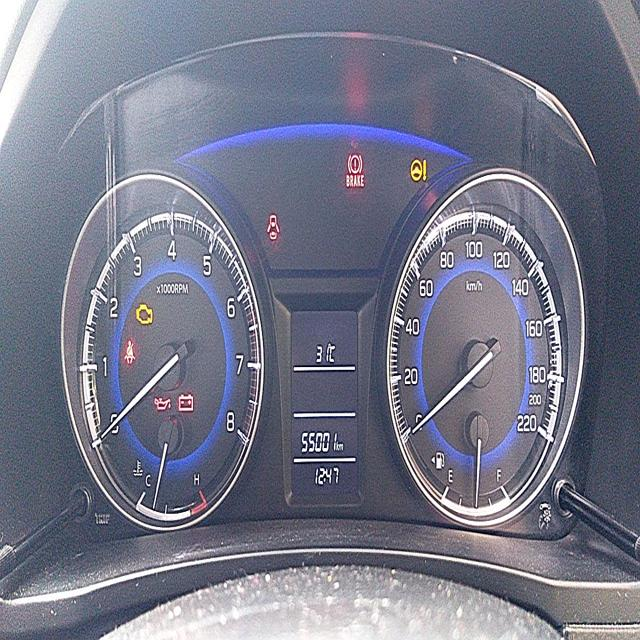odometer: (300, 427, 337, 457)
